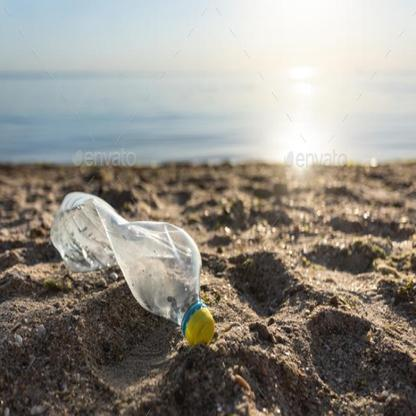plastic bottle: (51, 191, 215, 345)
